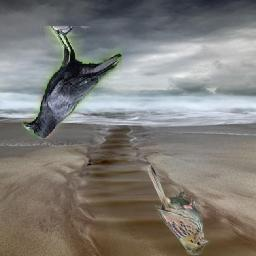Crow: (22, 27, 122, 140)
Sparrow: (145, 162, 212, 256)
